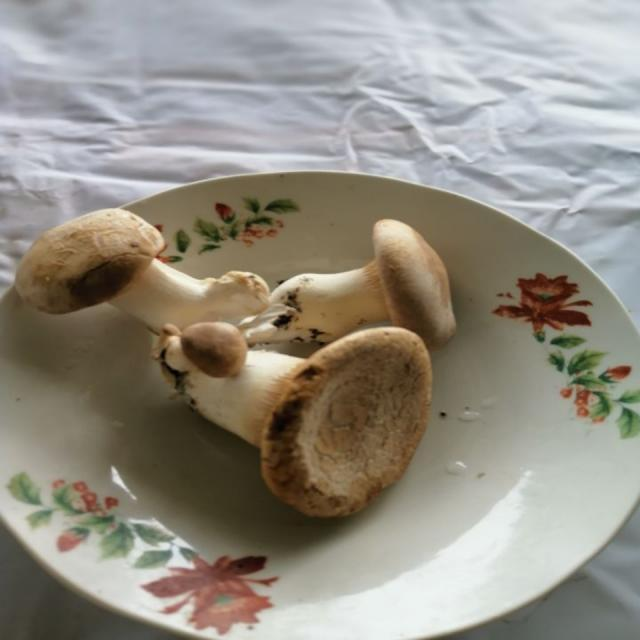Pleurotus cystidiosus: (159, 321, 432, 511), (18, 207, 266, 331), (266, 218, 458, 347)
